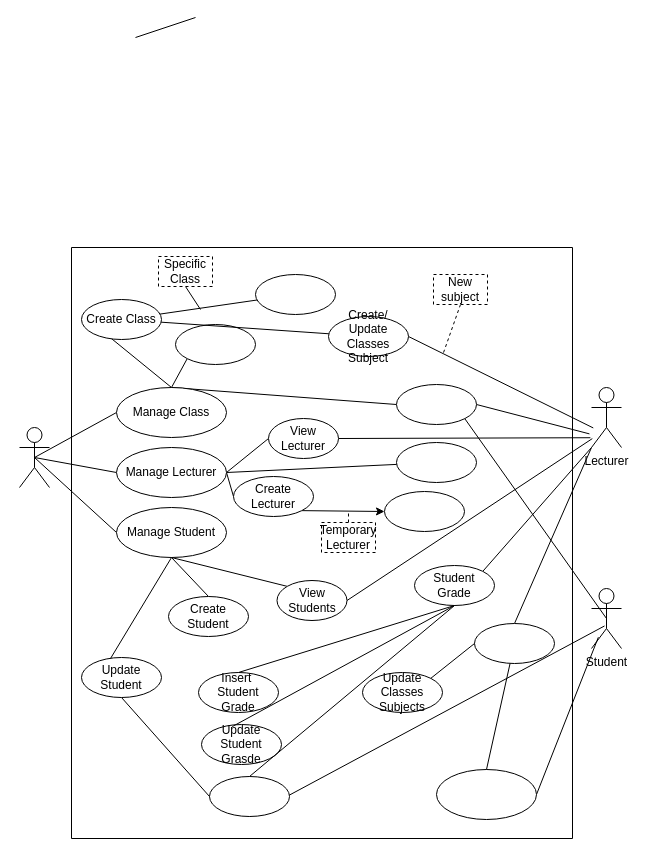
Image size: 646x856. Some labels were removed from this diagram. Here are the shapes that lost their labels. From the top down, the box of each, then its label:
(254, 274, 336, 314): Temporary Class
(174, 324, 256, 364): Update Class
(396, 384, 476, 424): View Classes
(18, 426, 50, 488): Admin
(396, 442, 476, 482): Update Lecturer
(384, 490, 464, 532): Temporary Lecurer
(474, 622, 554, 664): Take Class
(208, 776, 290, 816): View Student Grade
(436, 768, 536, 820): Enrolls Classes
